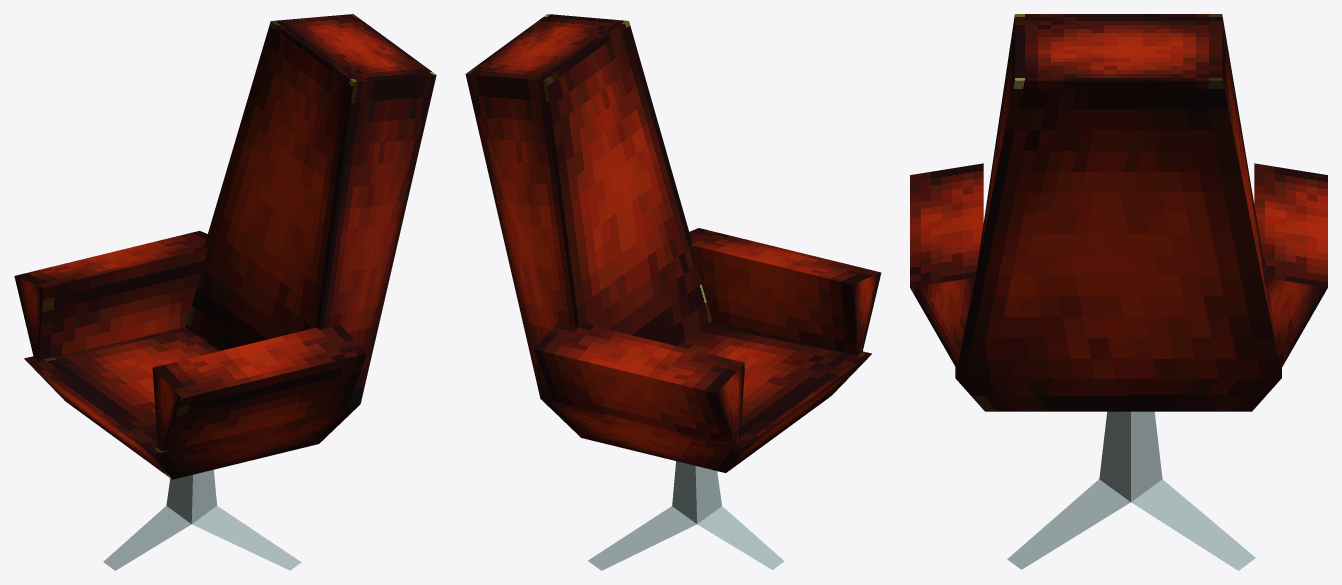
The model's file is Chefsessel[RotBraun]_324.glb.
3 views of the same model, side by side, from view 1: azimuth 30°, elevation 25°; view 2: azimuth 150°, elevation 25°; view 3: azimuth 270°, elevation 25° (orthographic). The views are drawn at different scales.
Visible parts, largest first — view 1: pPlaneShape67, pPlaneShape69, pCylinderShape102, pCylinderShape103, pPlaneShape68, pPlaneShape66, pPlaneShape64, pCylinderShape101, pPlaneShape72, pPlaneShape75; view 2: pPlaneShape67, pPlaneShape70, pCylinderShape103, pCylinderShape102, pPlaneShape71, pPlaneShape65, pCylinderShape101, pPlaneShape64, pPlaneShape75, pPlaneShape72; view 3: pPlaneShape67, pCylinderShape102, pCylinderShape103, pCylinderShape101, pPlaneShape65, pPlaneShape66, pPlaneShape74, pPlaneShape73, pPlaneShape70, pPlaneShape69.
Boxes of the visible parts, <box> form: pPlaneShape67: <box>24,14,436,478</box>; pPlaneShape69: <box>319,75,436,407</box>; pCylinderShape102: <box>153,325,366,461</box>; pCylinderShape103: <box>15,231,208,372</box>; pPlaneShape68: <box>155,404,359,479</box>; pPlaneShape66: <box>192,506,301,570</box>; pPlaneShape64: <box>103,506,191,570</box>; pCylinderShape101: <box>166,469,216,524</box>; pPlaneShape72: <box>14,276,43,359</box>; pPlaneShape75: <box>152,368,181,451</box>; pPlaneShape67: <box>466,14,871,472</box>; pPlaneShape70: <box>465,74,579,407</box>; pCylinderShape103: <box>533,322,744,455</box>; pCylinderShape102: <box>689,228,880,367</box>; pPlaneShape71: <box>541,399,742,472</box>; pPlaneShape65: <box>588,506,696,570</box>; pCylinderShape101: <box>672,461,721,524</box>; pPlaneShape64: <box>697,506,784,569</box>; pPlaneShape75: <box>852,273,881,355</box>; pPlaneShape72: <box>716,363,745,445</box>; pPlaneShape67: <box>955,14,1281,411</box>; pCylinderShape102: <box>910,163,983,366</box>; pCylinderShape103: <box>1254,163,1327,287</box>; pCylinderShape101: <box>1099,411,1162,502</box>; pPlaneShape65: <box>1131,479,1255,570</box>; pPlaneShape66: <box>1007,479,1130,569</box>; pPlaneShape74: <box>910,277,975,368</box>; pPlaneShape73: <box>1264,277,1327,369</box>; pPlaneShape70: <box>1222,15,1281,375</box>; pPlaneShape69: <box>977,15,1014,265</box>.
Size of the model in its own units: 0.1514 by 0.2226 by 0.1439.
Materials: 15 (11 with a texture image).
